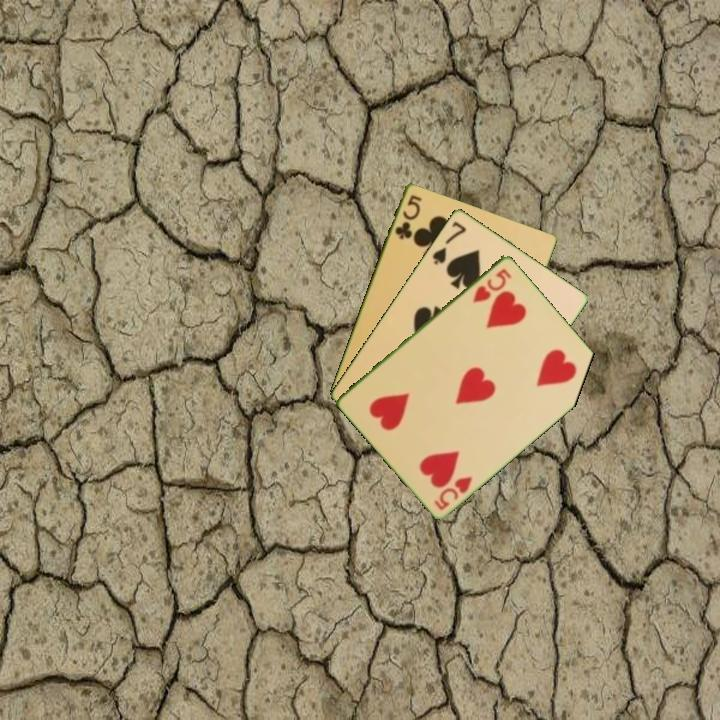5c: (391, 191, 425, 242)
5h: (431, 472, 476, 513), (469, 265, 514, 305)
7s: (428, 217, 469, 267)
